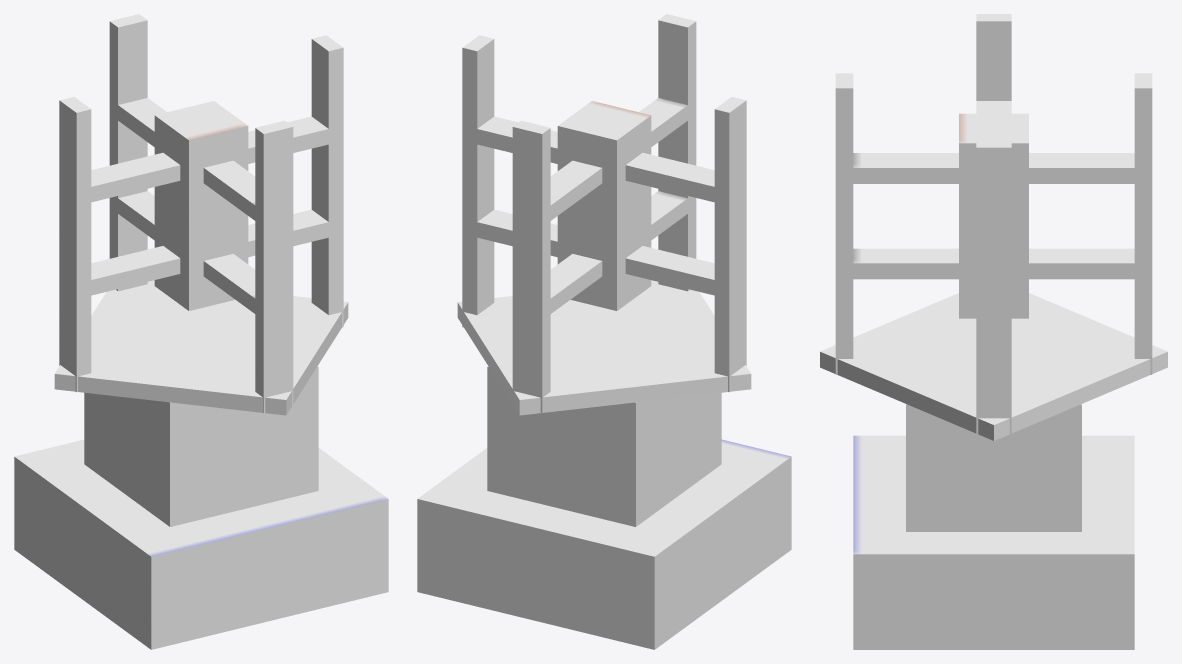
File: emp_tower.obj
3 views of the same model, side by side, from view 1: azimuth 30°, elevation 25°; view 2: azimuth 150°, elevation 25°; view 3: azimuth 270°, elevation 25° (orthographic). The views are drawn at different scales.
Visible parts, largest first — view 1: Base, Support, Turret_Support, Main_Coil, Support_Beam_D1, Support_Beam_A1, Support_Beam_C1, Support_Beam_B1, Support_Beam_CA2, Support_Beam_CA1, Support_Beam_DB2, Support_Beam_DB1; view 2: Base, Support, Turret_Support, Main_Coil, Support_Beam_B1, Support_Beam_A1, Support_Beam_C1, Support_Beam_D1, Support_Beam_CA2, Support_Beam_CA1, Support_Beam_DB2, Support_Beam_DB1; view 3: Base, Turret_Support, Support, Support_Beam_C1, Main_Coil, Support_Beam_DB1, Support_Beam_DB2, Support_Beam_B1, Support_Beam_D1, Support_Beam_A1.
Part boxes in pixels (box(x1,y1,x2,y2)): Base: box(14, 439, 388, 649); Support: box(84, 366, 318, 526); Turret_Support: box(54, 280, 348, 415); Main_Coil: box(154, 101, 248, 310); Support_Beam_D1: box(255, 120, 293, 413); Support_Beam_A1: box(59, 97, 91, 392); Support_Beam_C1: box(311, 35, 343, 327); Support_Beam_B1: box(109, 14, 147, 291); Support_Beam_CA2: box(91, 116, 328, 202); Support_Beam_CA1: box(91, 209, 328, 295); Support_Beam_DB2: box(118, 98, 255, 220); Support_Beam_DB1: box(118, 191, 255, 313); Base: box(417, 439, 791, 649); Support: box(487, 366, 721, 526); Turret_Support: box(457, 280, 751, 415); Main_Coil: box(557, 101, 651, 310); Support_Beam_B1: box(512, 120, 550, 413); Support_Beam_A1: box(714, 97, 746, 392); Support_Beam_C1: box(462, 35, 494, 327); Support_Beam_D1: box(658, 14, 696, 291); Support_Beam_CA2: box(477, 116, 714, 202); Support_Beam_CA1: box(477, 209, 714, 295); Support_Beam_DB2: box(550, 98, 687, 220); Support_Beam_DB1: box(550, 191, 687, 313); Base: box(853, 435, 1134, 649); Turret_Support: box(820, 293, 1167, 440); Support: box(906, 404, 1081, 531); Support_Beam_C1: box(976, 140, 1011, 434); Main_Coil: box(959, 113, 1028, 318); Support_Beam_DB1: box(853, 248, 1134, 279); Support_Beam_DB2: box(853, 153, 1134, 183); Support_Beam_B1: box(1134, 73, 1152, 374); Support_Beam_D1: box(835, 73, 853, 374); Support_Beam_A1: box(976, 14, 1011, 100).
Size of the model in its own units: 1.24 by 2 by 1.24.
